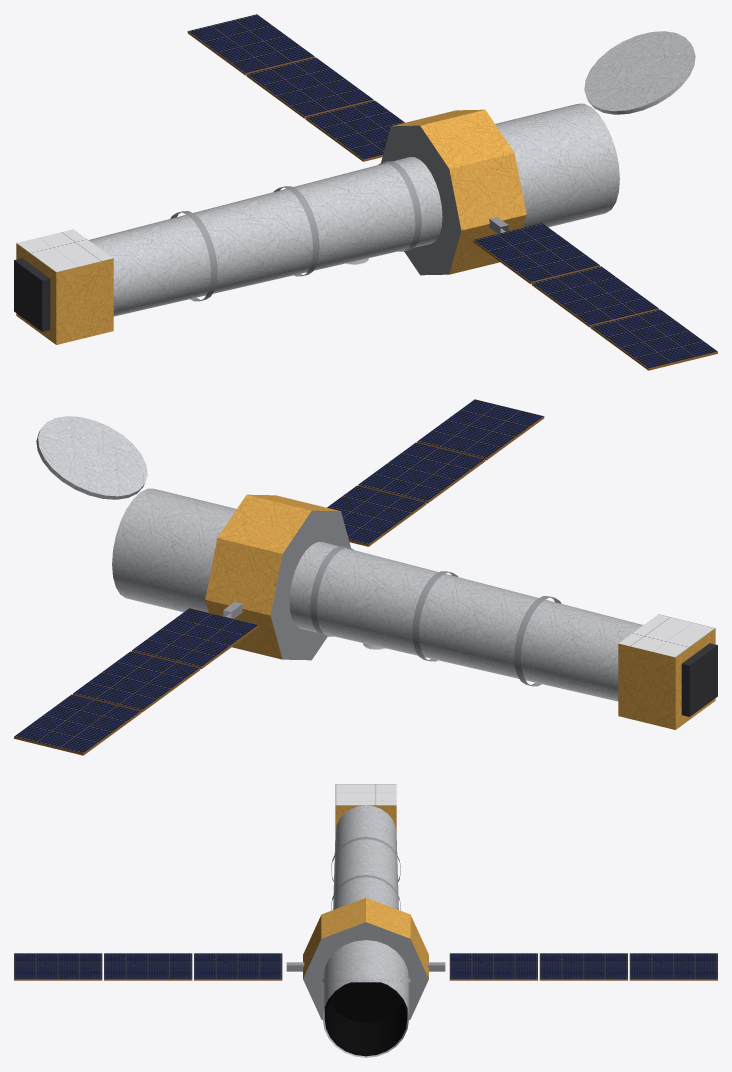
The model's file is chandra.glb.
The picture shows the model from 3 angles, top to bottom: view 1: azimuth 30°, elevation 25°; view 2: azimuth 150°, elevation 25°; view 3: azimuth 270°, elevation 25°; orthographic projection. The views are drawn at different scales.
Parts seen in each view (by area): view 1: chandra; view 2: chandra; view 3: chandra.
Boxes of the visible parts, box(x1,y1,x2,y2) form: chandra: box(14, 14, 717, 370); chandra: box(14, 399, 717, 755); chandra: box(14, 784, 717, 1057).
Size of the model in its own units: 16.14 by 4.05 by 19.55.
Materials: 9 (5 with a texture image).
